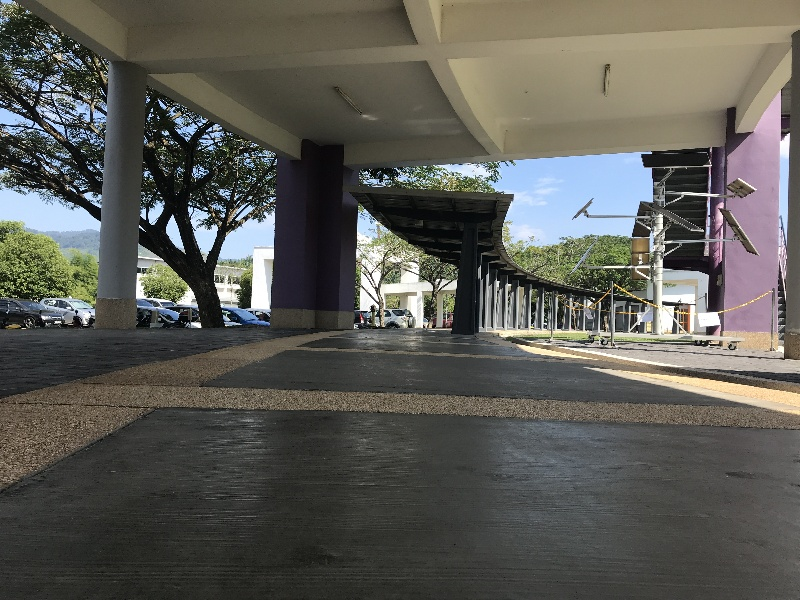Block D Pillar 5: (16, 7, 799, 541)
pillar: (273, 128, 356, 342), (86, 50, 145, 335), (720, 101, 782, 365), (445, 212, 484, 343)
